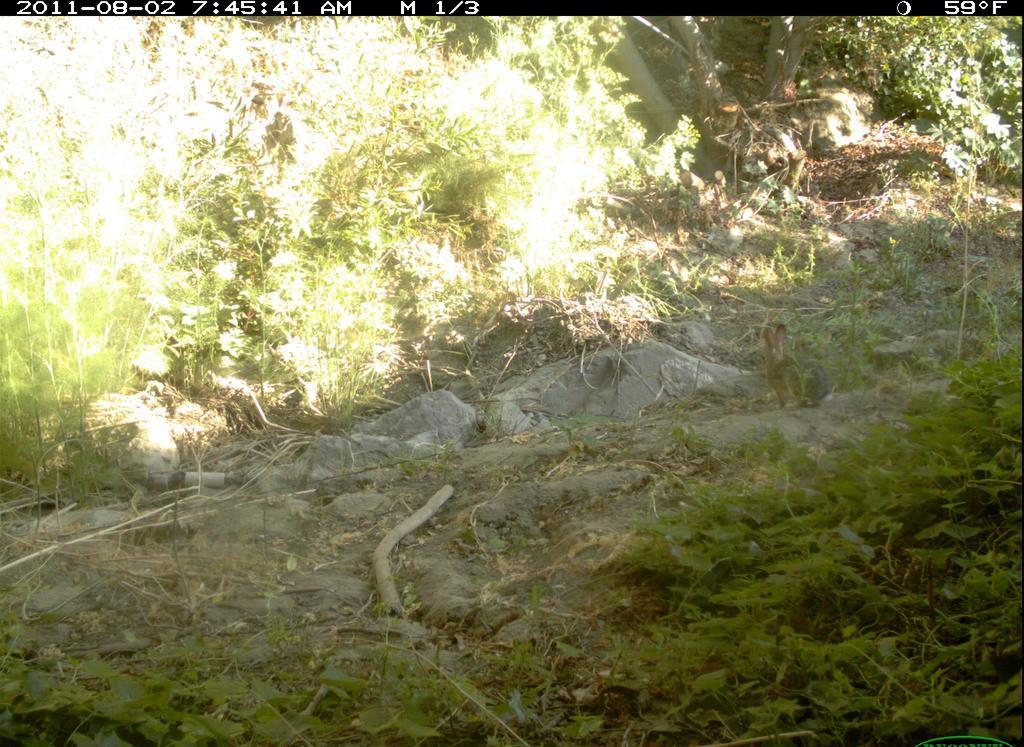rabbit: (758, 313, 831, 417)
